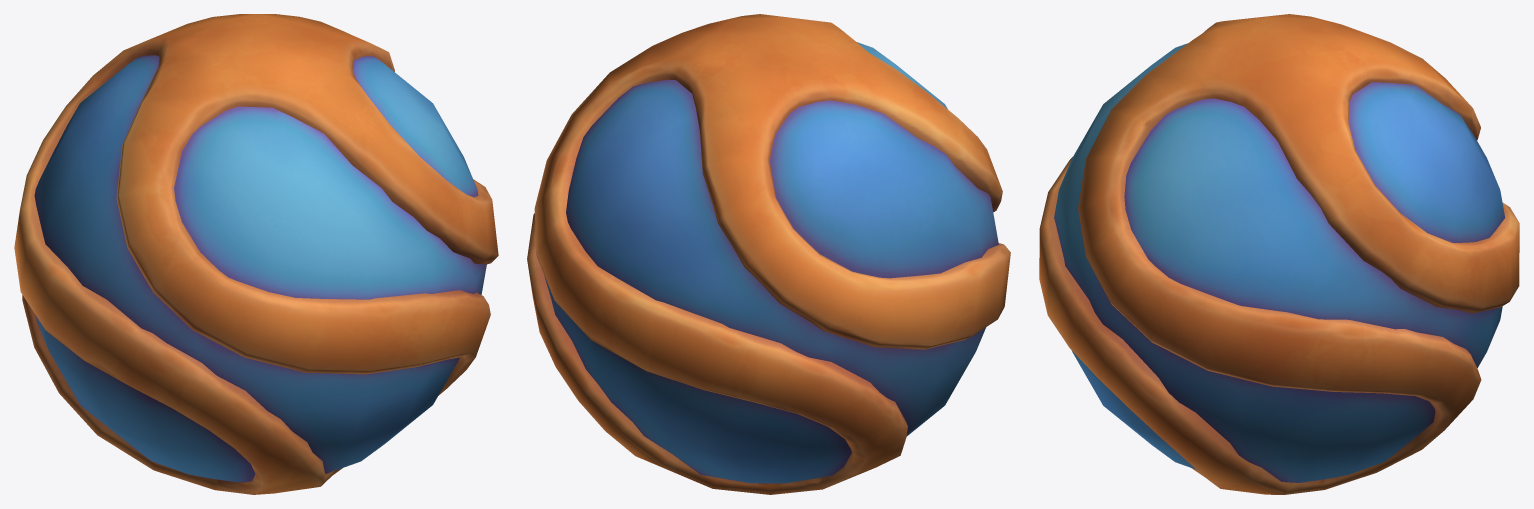
File: Planet_CosmicSphere_Aqua.fbx
3 views of the same model, side by side, from view 1: azimuth 30°, elevation 25°; view 2: azimuth 150°, elevation 25°; view 3: azimuth 270°, elevation 25° (orthographic).
Visible parts, largest first — view 1: Planet_CosmicSphere_Aqua; view 2: Planet_CosmicSphere_Aqua; view 3: Planet_CosmicSphere_Aqua.
Part boxes in pixels (x1,y1,x2,y2): Planet_CosmicSphere_Aqua: (14,14,498,494); Planet_CosmicSphere_Aqua: (527,14,1010,494); Planet_CosmicSphere_Aqua: (1039,14,1519,494).
Bounding box in the file's own units: 207 × 210 × 207.
